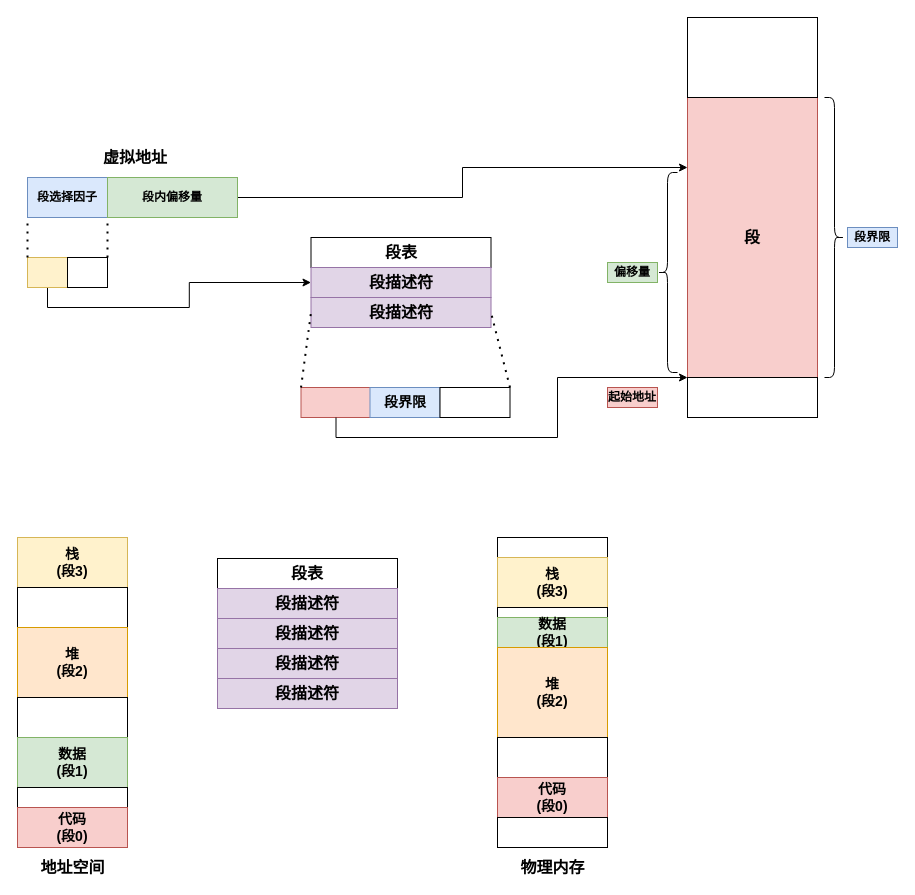
Some shapes in this 915 by 895 pixel diagram are drawn without their labels. The centre of each missing label's shape, as x and y in pixels:
标志位: [87,272]
段号: [47,272]
段基地址: [335,402]
特权级: [474,402]
